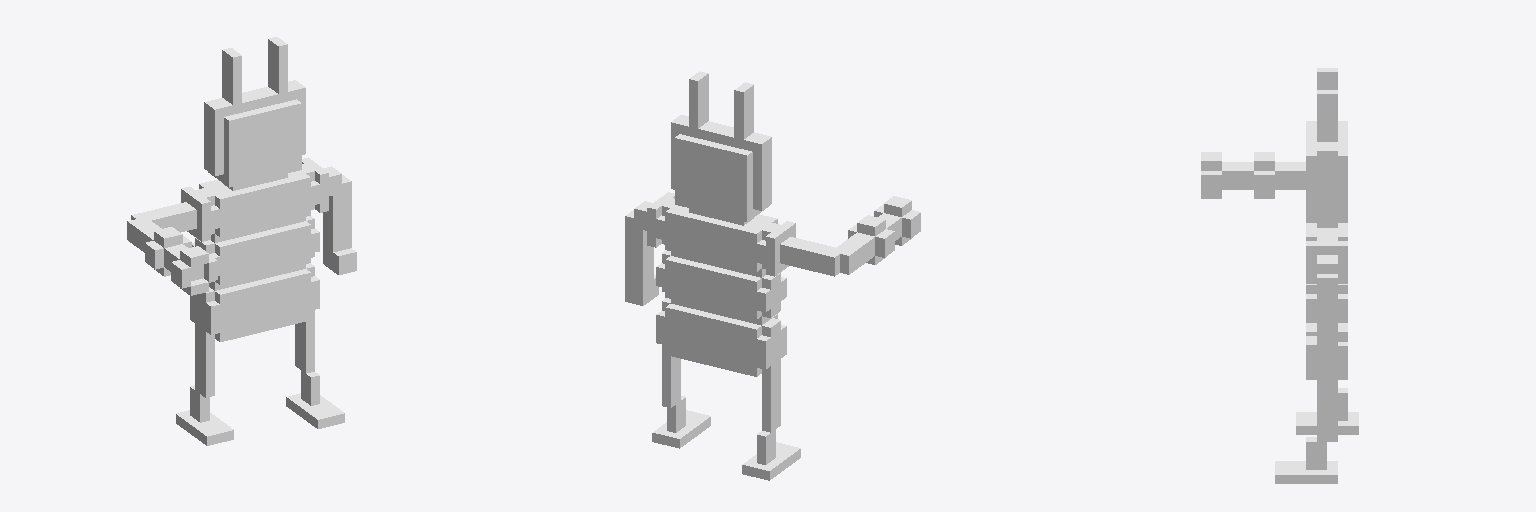
File: work2.obj
3 renders of one model, left to right at view 1: azimuth 30°, elevation 25°; view 2: azimuth 150°, elevation 25°; view 3: azimuth 270°, elevation 25°, orthographic.
Visible parts, largest first — view 1: work2; view 2: work2; view 3: work2.
Part boxes in pixels (x1,y1,x2,y2): work2: (127, 37, 356, 445); work2: (625, 71, 920, 480); work2: (1201, 68, 1358, 483).
Size of the model in its own units: 25 by 39 by 15.